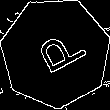P_SW: (25, 24, 86, 81)
